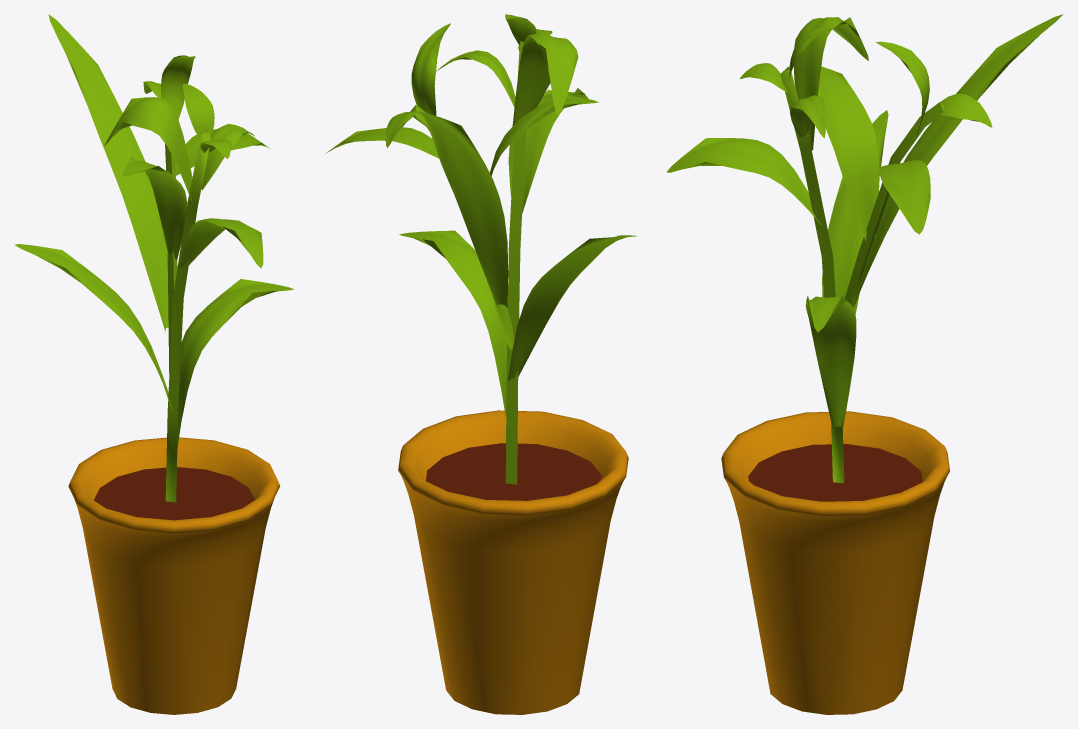
Rendered from BigPlantPot.fbx.
3 renders of one model, left to right at view 1: azimuth 30°, elevation 25°; view 2: azimuth 150°, elevation 25°; view 3: azimuth 270°, elevation 25°, orthographic. The views are drawn at different scales.
Parts seen in each view (by area): view 1: BigPlantPot; view 2: BigPlantPot; view 3: BigPlantPot.
Boxes of the visible parts, x1,y1,x2,y2 form: BigPlantPot: (14,14,293,714); BigPlantPot: (325,14,636,714); BigPlantPot: (667,14,1063,714).
Bounding box in the file's own units: 5049 × 10800 × 5849.
